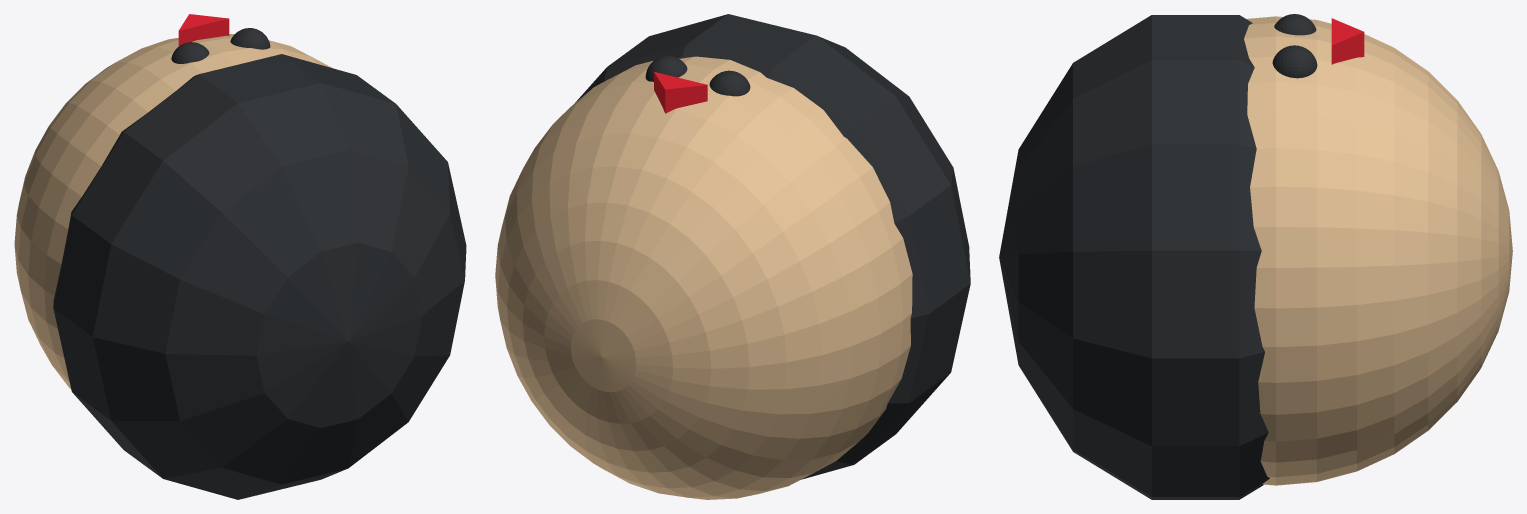
The model's file is tinker.obj.
3 renders of one model, left to right at view 1: azimuth 30°, elevation 25°; view 2: azimuth 150°, elevation 25°; view 3: azimuth 270°, elevation 25°, orthographic. The views are drawn at different scales.
Visible parts, largest first — view 1: group_0_2829873, group_0_14860437, group_0_15277357; view 2: group_0_14860437, group_0_2829873, group_0_15277357; view 3: group_0_2829873, group_0_14860437, group_0_15277357.
Boxes of the visible parts, <box> form: group_0_2829873: <box>53,28,466,499</box>; group_0_14860437: <box>14,34,331,389</box>; group_0_15277357: <box>178,14,229,45</box>; group_0_14860437: <box>495,56,912,499</box>; group_0_2829873: <box>575,14,970,479</box>; group_0_15277357: <box>654,72,707,113</box>; group_0_2829873: <box>999,14,1317,499</box>; group_0_14860437: <box>1244,16,1512,485</box>; group_0_15277357: <box>1331,18,1364,64</box>.
Size of the model in its own units: 51.52 by 53.28 by 55.31.
